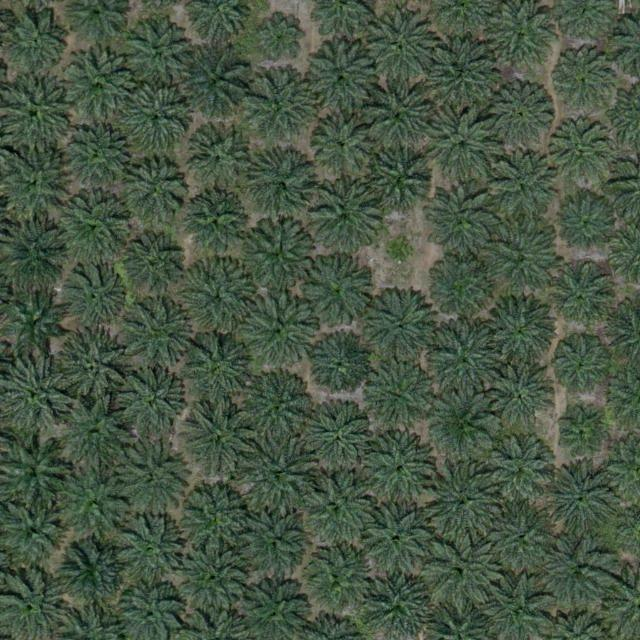Kelapa_Sawit: (61, 47, 139, 125), (172, 46, 250, 124), (240, 67, 318, 145), (303, 41, 381, 119), (359, 6, 437, 84), (426, 323, 504, 401), (359, 79, 437, 157), (238, 369, 316, 447), (236, 289, 314, 367), (238, 216, 316, 294), (180, 256, 258, 334), (179, 332, 257, 410), (179, 402, 257, 480), (117, 78, 195, 156), (58, 116, 136, 194), (51, 327, 129, 405), (56, 396, 134, 474), (50, 463, 128, 541), (108, 514, 186, 592), (110, 437, 188, 515), (177, 480, 255, 558), (177, 539, 255, 617), (290, 471, 368, 549), (293, 540, 371, 618), (421, 461, 499, 539), (419, 533, 497, 611), (425, 46, 495, 117), (482, 81, 552, 152), (485, 148, 555, 219), (485, 221, 555, 292), (428, 110, 498, 181), (426, 188, 496, 259), (485, 503, 555, 574), (483, 436, 553, 507), (542, 466, 612, 537), (543, 537, 613, 608), (485, 2, 555, 72), (483, 293, 553, 363), (427, 390, 497, 460), (361, 362, 431, 432), (363, 288, 433, 358), (364, 149, 434, 219), (303, 251, 373, 321), (309, 405, 379, 475), (244, 150, 314, 220), (183, 122, 253, 192), (113, 365, 183, 435), (123, 299, 193, 369), (118, 159, 188, 229), (58, 195, 128, 265), (59, 538, 129, 608), (237, 508, 307, 578), (245, 436, 315, 506), (364, 569, 434, 639), (359, 504, 429, 574), (362, 435, 432, 505), (2, 11, 64, 74), (553, 46, 615, 109), (547, 123, 609, 186), (489, 364, 551, 427), (430, 254, 492, 317), (309, 112, 371, 175), (314, 186, 376, 249), (309, 334, 371, 397), (183, 191, 245, 254), (123, 233, 185, 296), (64, 264, 126, 327), (2, 289, 64, 351), (127, 19, 188, 82), (554, 339, 609, 394), (555, 273, 610, 328), (560, 198, 614, 253), (556, 411, 602, 458), (258, 11, 304, 57), (384, 236, 415, 267)
